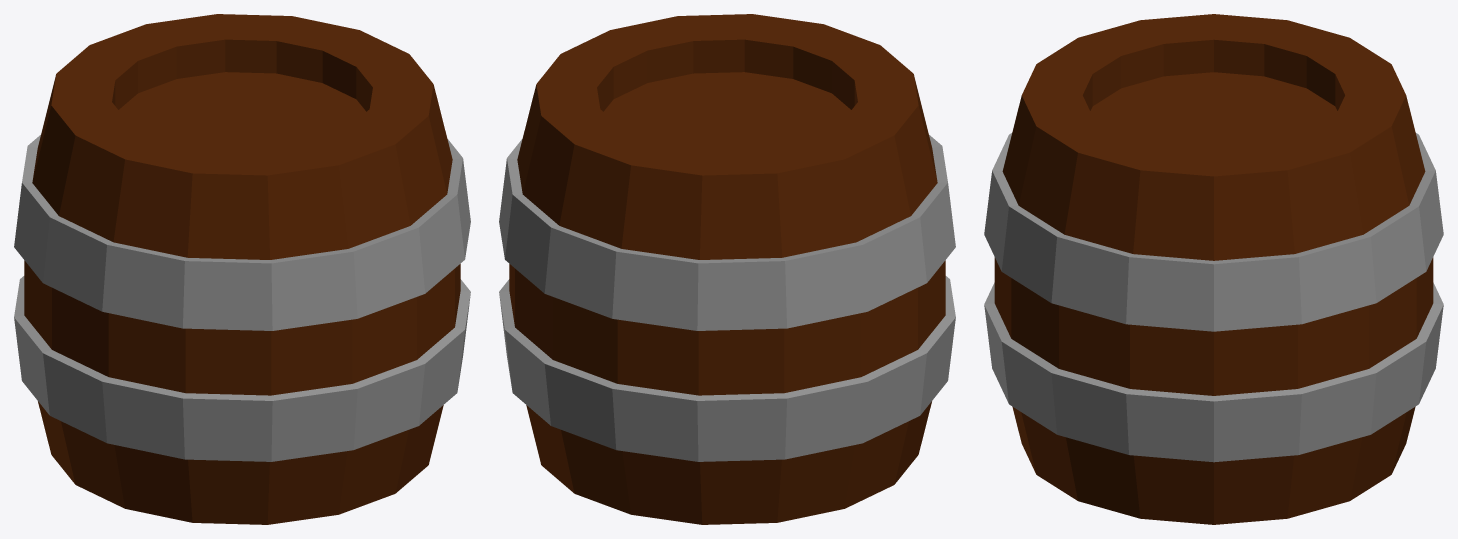
File: barrel.glb
3 renders of one model, left to right at view 1: azimuth 30°, elevation 25°; view 2: azimuth 150°, elevation 25°; view 3: azimuth 270°, elevation 25°, orthographic.
Parts seen in each view (by area): view 1: Cylinder; view 2: Cylinder; view 3: Cylinder.
Boxes of the visible parts, left/top/right/bottom form: Cylinder: left=14, top=14, right=470, bottom=524; Cylinder: left=499, top=14, right=955, bottom=524; Cylinder: left=984, top=14, right=1443, bottom=524.
Bounding box in the file's own units: 1.2 × 1 × 1.2.
